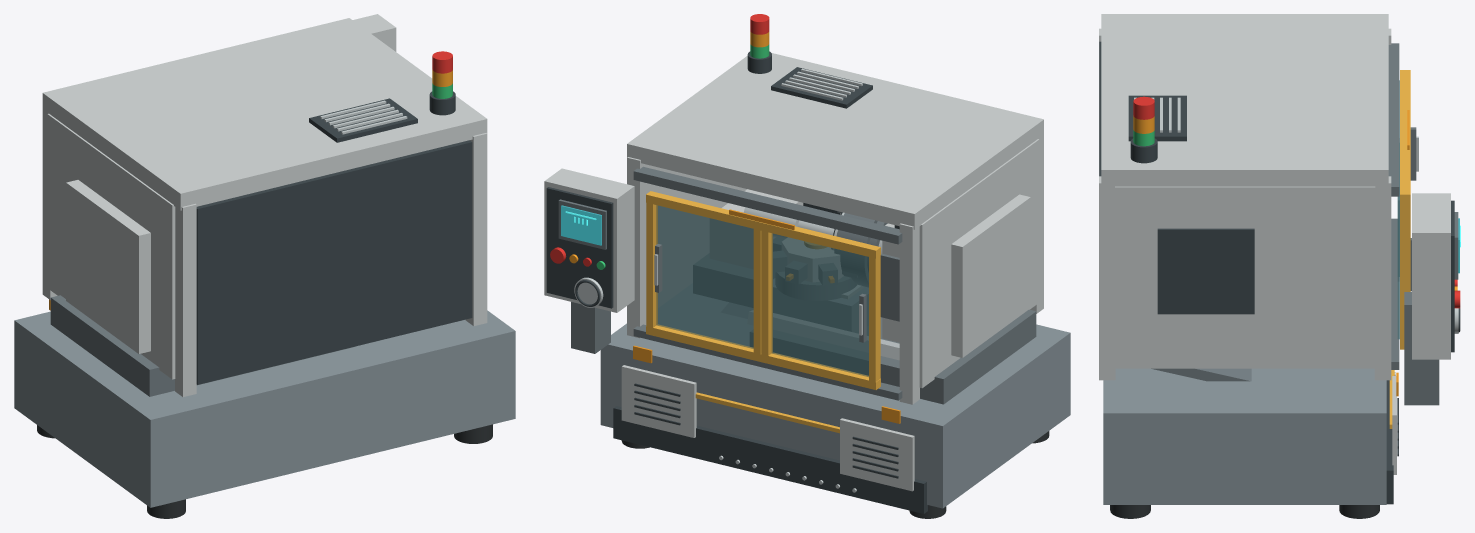
3 views of the same model, side by side, from view 1: azimuth 30°, elevation 25°; view 2: azimuth 150°, elevation 25°; view 3: azimuth 270°, elevation 25° (orthographic). The views are drawn at different scales.
Visible parts, largest first — view 1: Machine_Base_CastBed, Rear_Enclosure_Panel, Enclosure_Roof, Left_Side_Panel, Spindle_Headstock, Enclosure_Frame, Slant_Bed_Rails, Top_Service_Vent, Top_Vent_Slats, Leveling_Feet, Operator_Panel; view 2: Enclosure_Roof, Machine_Base_CastBed, Sliding_Door_Left, Sliding_Door_Right, Left_Side_Panel, Spindle_Headstock, Machine_Base_FrontSkirt, Lower_Service_Panels, Enclosure_Frame, Slant_Bed_Rails, Operator_Panel, Right_Side_Panel (+19 smaller); view 3: Enclosure_Roof, Right_Side_Panel, Machine_Base_CastBed, Right_Side_Inset, Enclosure_Frame, Operator_Panel, Sliding_Door_Right, Control_Pedestal, Door_Upper_Track, Top_Service_Vent, Sliding_Door_Left, Door_Lower_Track (+7 smaller).
Boxes of the visible parts, left/top/right/bottom form: Machine_Base_CastBed: left=14, top=310, right=515, bottom=507; Rear_Enclosure_Panel: left=196, top=140, right=472, bottom=384; Enclosure_Roof: left=42, top=18, right=487, bottom=210; Left_Side_Panel: left=47, top=113, right=175, bottom=379; Spindle_Headstock: left=66, top=180, right=150, bottom=353; Enclosure_Frame: left=42, top=110, right=487, bottom=396; Slant_Bed_Rails: left=50, top=295, right=355, bottom=396; Top_Service_Vent: left=309, top=98, right=417, bottom=142; Top_Vent_Slats: left=320, top=100, right=407, bottom=134; Leveling_Feet: left=37, top=424, right=492, bottom=518; Operator_Panel: left=353, top=14, right=396, bottom=51; Enclosure_Roof: left=627, top=53, right=1043, bottom=229; Machine_Base_CastBed: left=600, top=283, right=1070, bottom=508; Sliding_Door_Left: left=761, top=222, right=880, bottom=389; Sliding_Door_Right: left=646, top=191, right=761, bottom=361; Left_Side_Panel: left=919, top=139, right=1039, bottom=388; Spindle_Headstock: left=882, top=194, right=1030, bottom=357; Machine_Base_FrontSkirt: left=613, top=406, right=927, bottom=513; Lower_Service_Panels: left=621, top=365, right=914, bottom=491; Enclosure_Frame: left=627, top=135, right=1043, bottom=404; Slant_Bed_Rails: left=750, top=309, right=1036, bottom=404; Operator_Panel: left=544, top=168, right=634, bottom=312; Right_Side_Panel: left=647, top=165, right=746, bottom=307; Enclosure_Roof: left=1101, top=14, right=1388, bottom=187; Right_Side_Panel: left=1115, top=186, right=1375, bottom=368; Machine_Base_CastBed: left=1103, top=368, right=1386, bottom=504; Right_Side_Inset: left=1157, top=228, right=1254, bottom=314; Enclosure_Frame: left=1099, top=28, right=1391, bottom=380; Operator_Panel: left=1412, top=193, right=1450, bottom=359; Sliding_Door_Right: left=1397, top=132, right=1411, bottom=349; Control_Pedestal: left=1404, top=292, right=1439, bottom=405; Door_Upper_Track: left=1388, top=43, right=1399, bottom=196; Top_Service_Vent: left=1128, top=95, right=1186, bottom=141; Sliding_Door_Left: left=1398, top=70, right=1418, bottom=276; Door_Lower_Track: left=1391, top=218, right=1399, bottom=369.
Size of the model in its own units: 2.44 by 2.26 by 1.86.
